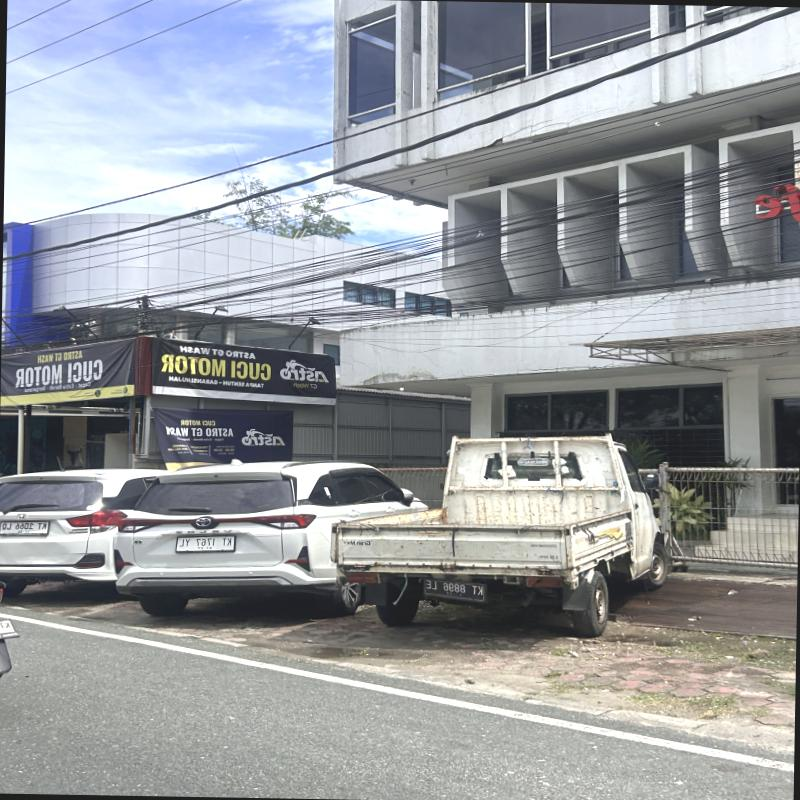license plate on a car: (423, 577, 483, 601), (176, 535, 235, 551), (0, 520, 49, 535)
